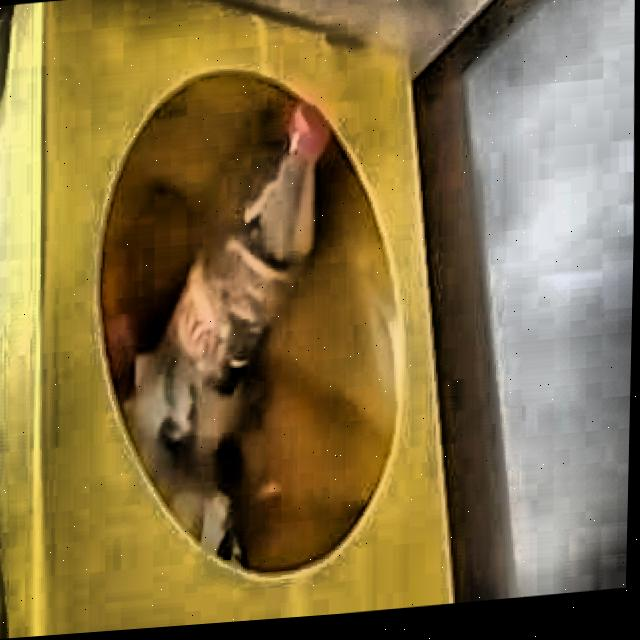plastic: (125, 106, 327, 458)
